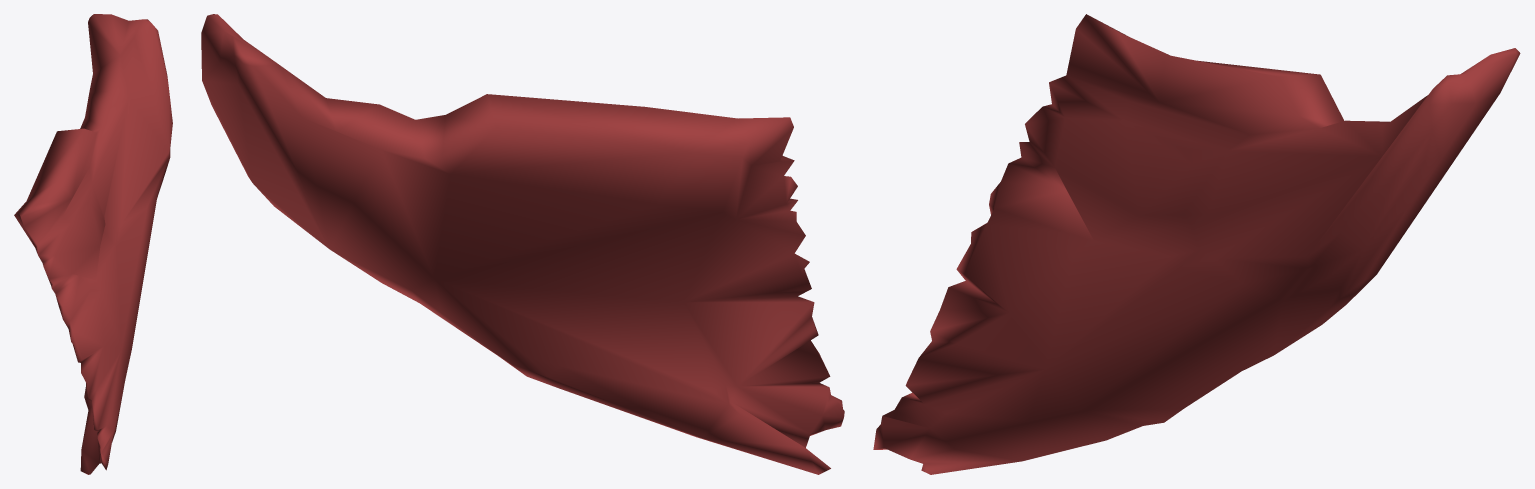
Rendered from inferior-head-of-lateral-pterygoid-muscle-l.glb.
3 renders of one model, left to right at view 1: azimuth 30°, elevation 25°; view 2: azimuth 150°, elevation 25°; view 3: azimuth 270°, elevation 25°, orthographic. The views are drawn at different scales.
Parts seen in each view (by area): view 1: Inferior head of lateral pterygoid muscle.l; view 2: Inferior head of lateral pterygoid muscle.l; view 3: Inferior head of lateral pterygoid muscle.l.
Boxes of the visible parts, bbox=[...] form: Inferior head of lateral pterygoid muscle.l: bbox=[14, 14, 172, 474]; Inferior head of lateral pterygoid muscle.l: bbox=[201, 14, 844, 474]; Inferior head of lateral pterygoid muscle.l: bbox=[873, 14, 1520, 474].
Size of the model in its own units: 0.0177 by 0.0225 by 0.0228.
